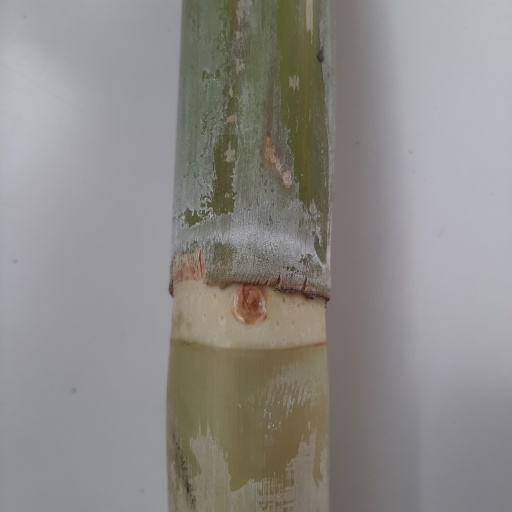Damage_Bud: (232, 283, 267, 328)
